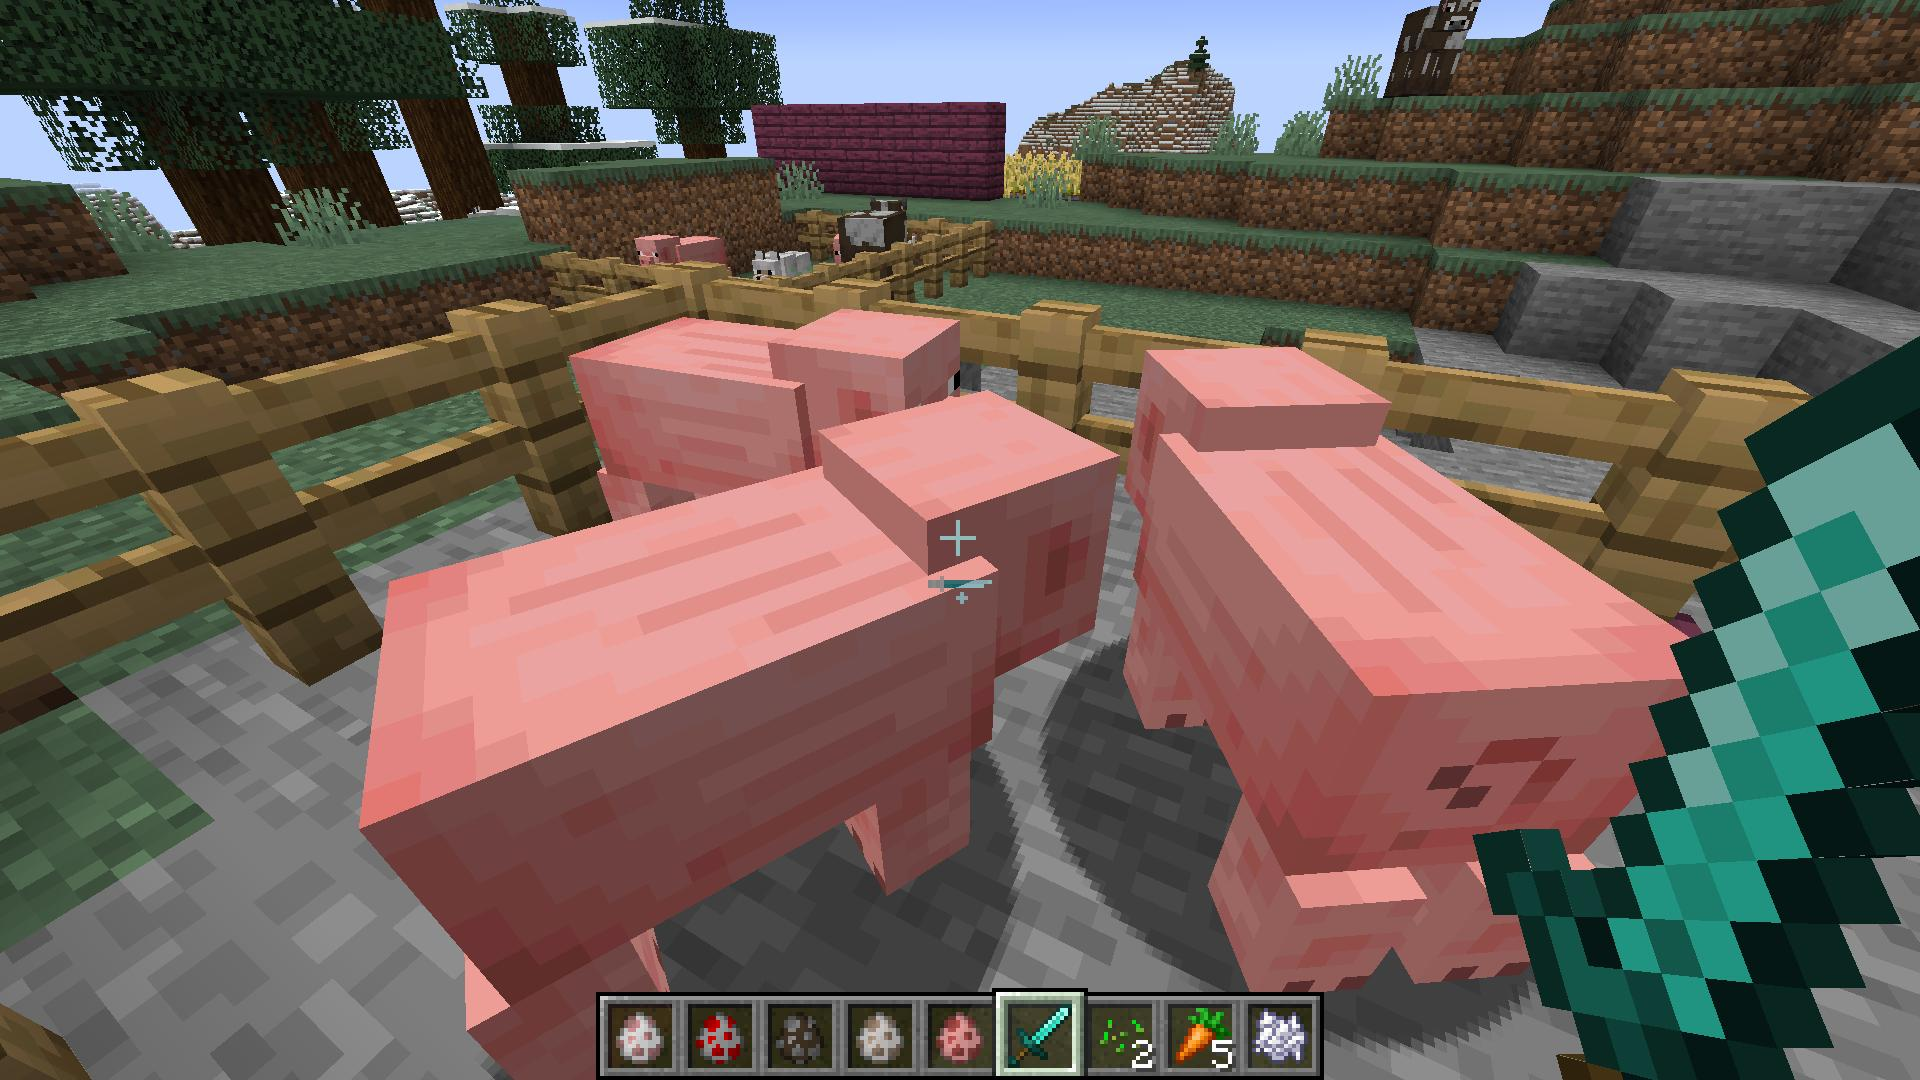pig: (356, 385, 1122, 973), (1120, 335, 1700, 988), (562, 302, 980, 504)
